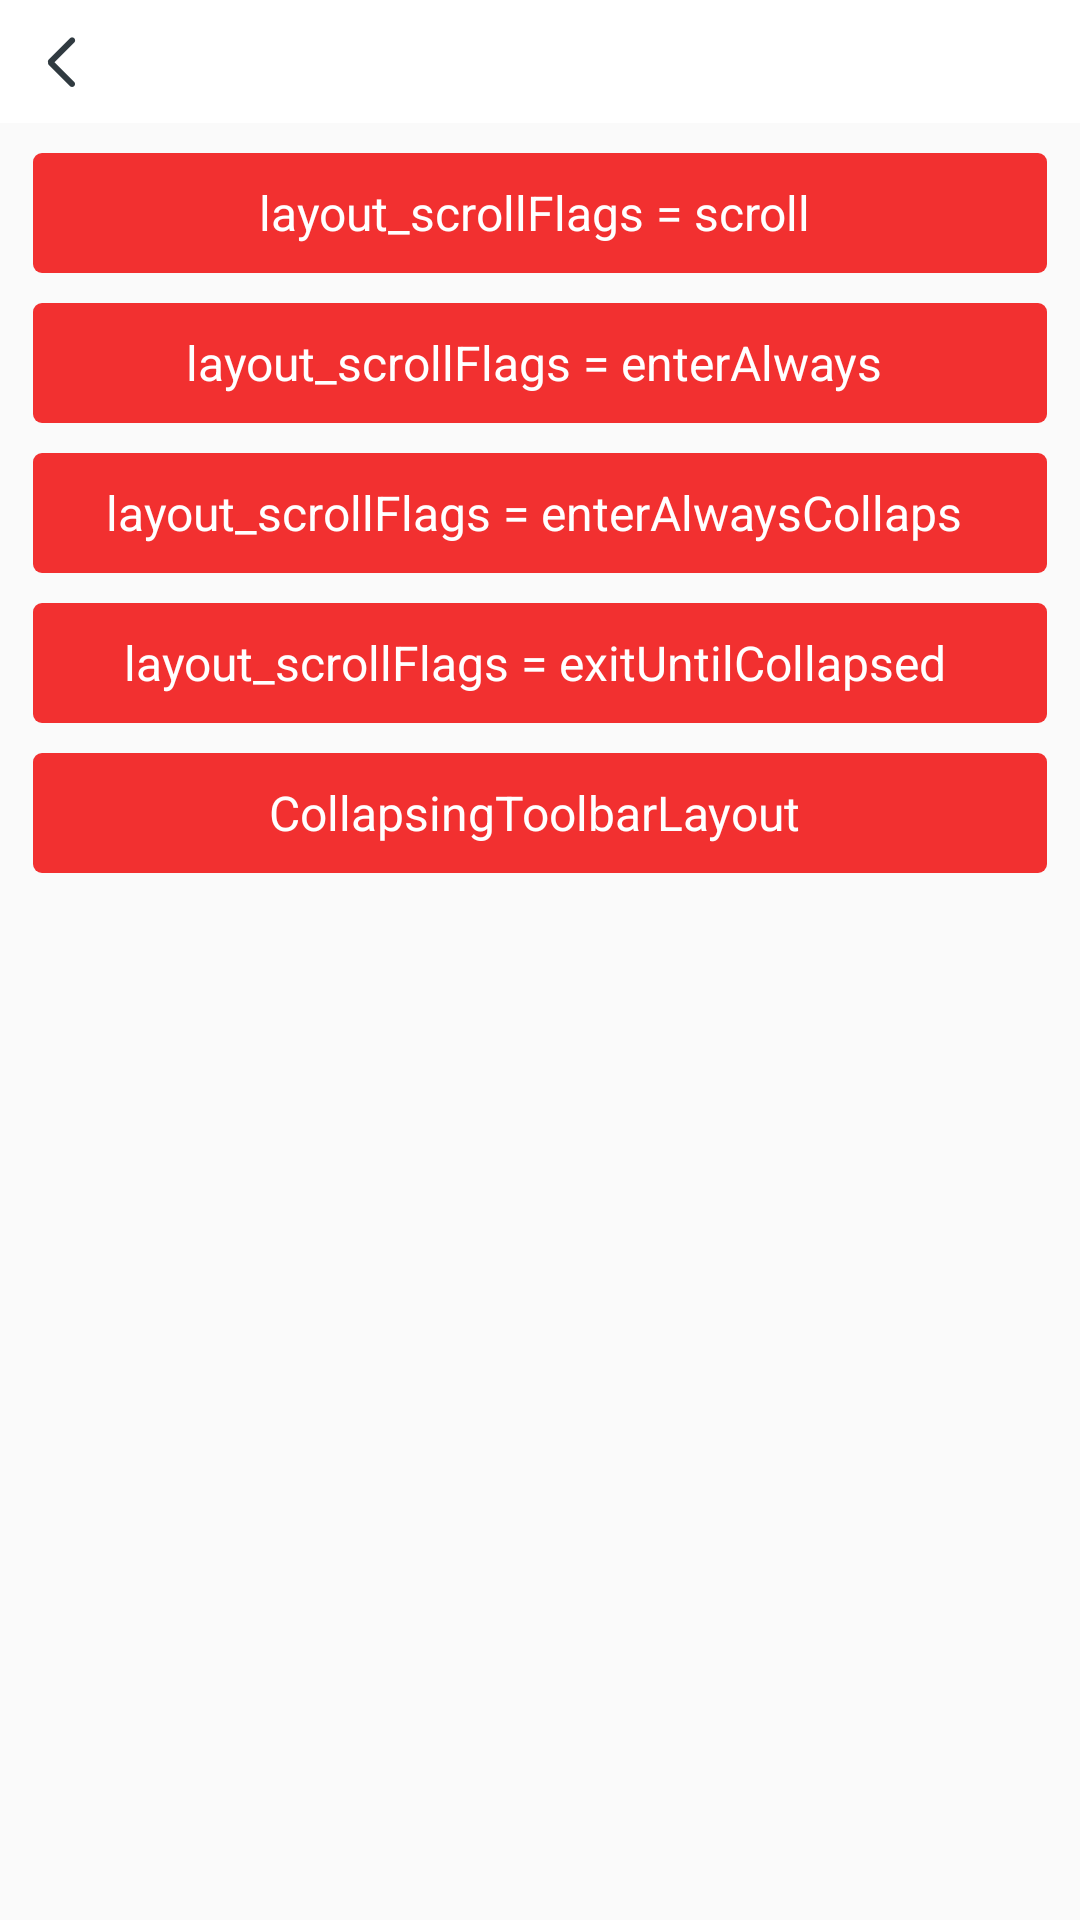

Icon bounding boxes for this 1080px x 1920px phone screenshot, format BBox(x1, y1, x2, y2):
back: BBox(48, 37, 75, 87)
